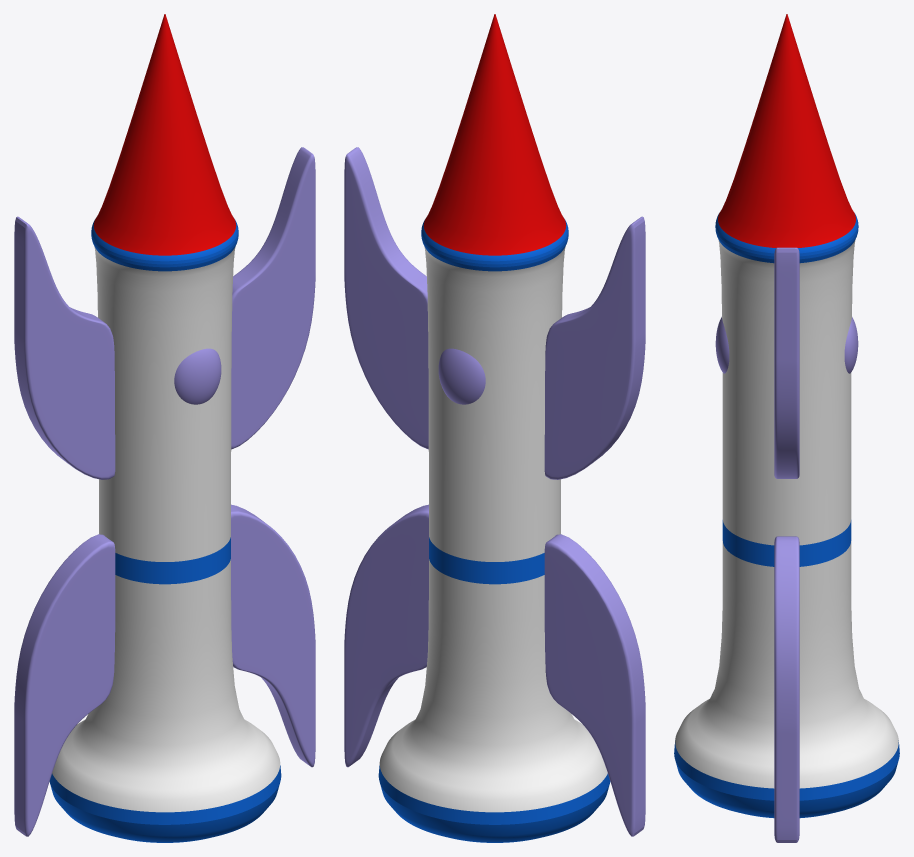
3 renders of one model, left to right at view 1: azimuth 30°, elevation 25°; view 2: azimuth 150°, elevation 25°; view 3: azimuth 270°, elevation 25°, orthographic. The views are drawn at different scales.
Parts seen in each view (by area): view 1: Cylinder; view 2: Cylinder; view 3: Cylinder.
Part boxes in pixels (x1,y1,x2,y2): Cylinder: (14, 14, 315, 842); Cylinder: (344, 14, 645, 842); Cylinder: (674, 14, 899, 842).
Size of the model in its own units: 505 by 1317 by 349.
